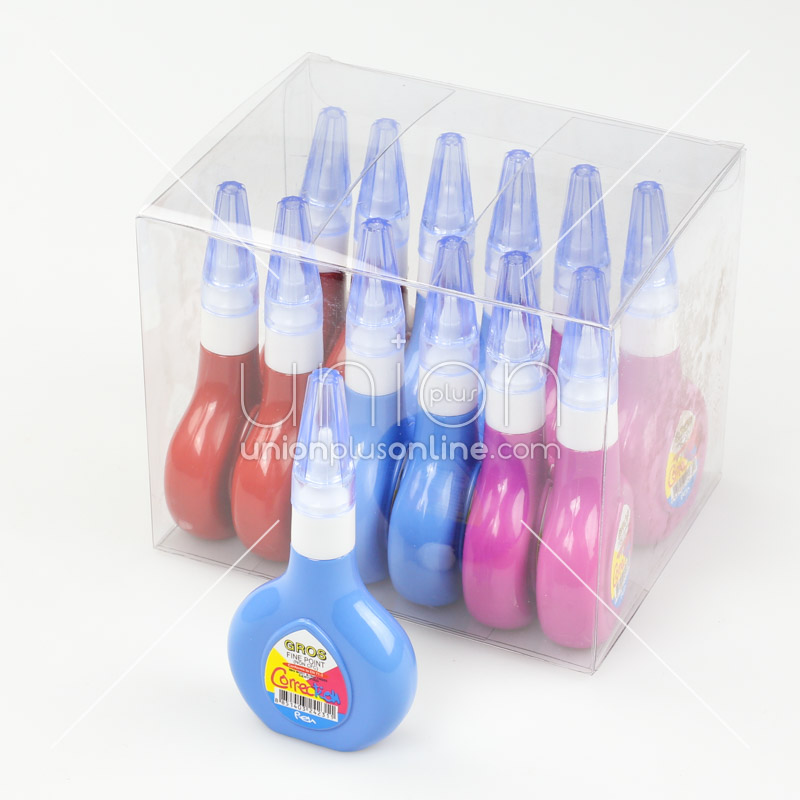Correction_fluid: (227, 363, 422, 759), (596, 178, 718, 548), (533, 256, 642, 663), (230, 196, 329, 565), (385, 229, 479, 617), (457, 247, 547, 645), (166, 181, 259, 551)
